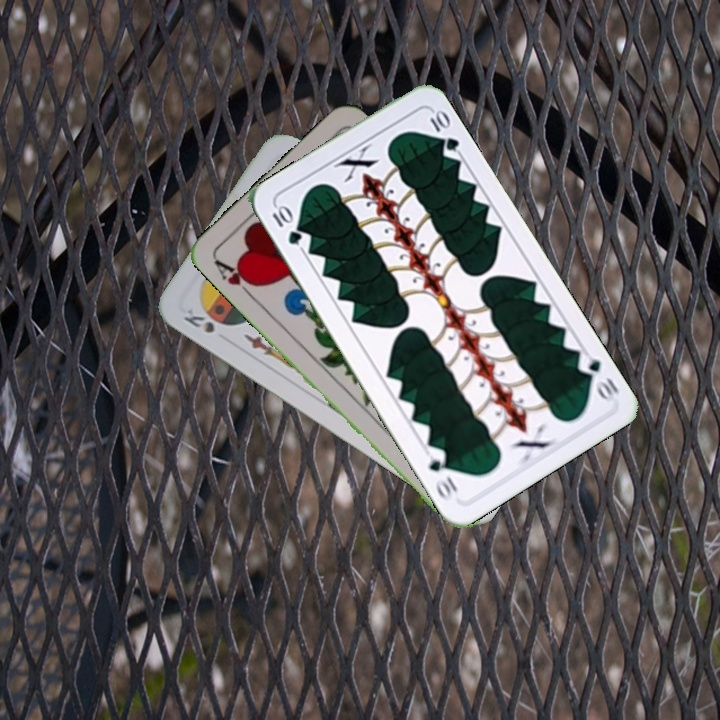G10: (573, 354, 621, 406), (268, 201, 305, 248)
HA: (210, 255, 261, 302)
SK: (179, 304, 217, 336)
